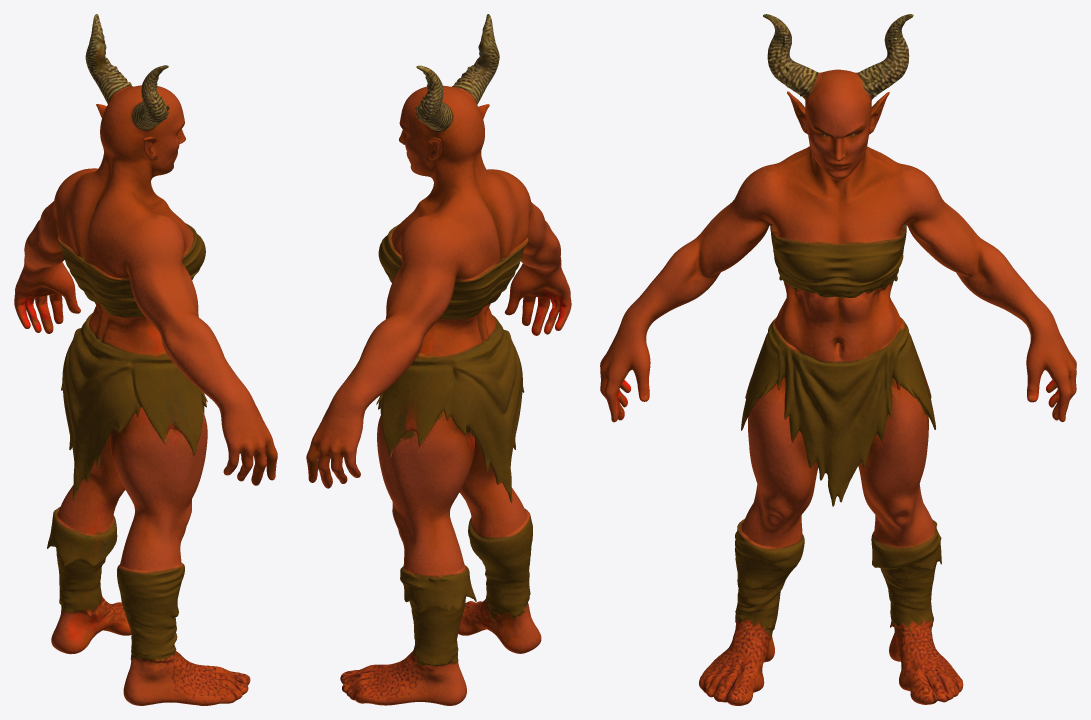
Rendered from DemoniaDesnuda.fbx.
3 renders of one model, left to right at view 1: azimuth 30°, elevation 25°; view 2: azimuth 150°, elevation 25°; view 3: azimuth 270°, elevation 25°, orthographic. The views are drawn at different scales.
Visible parts, largest first — view 1: tripo_node_ff5a0e06; view 2: tripo_node_ff5a0e06; view 3: tripo_node_ff5a0e06.
Boxes of the visible parts, x1,y1,x2,y2 form: tripo_node_ff5a0e06: [14, 14, 277, 705]; tripo_node_ff5a0e06: [306, 14, 571, 705]; tripo_node_ff5a0e06: [600, 14, 1076, 705].
Size of the model in its own units: 21.25 by 100 by 65.39.
Materials: 1 (1 with a texture image).
